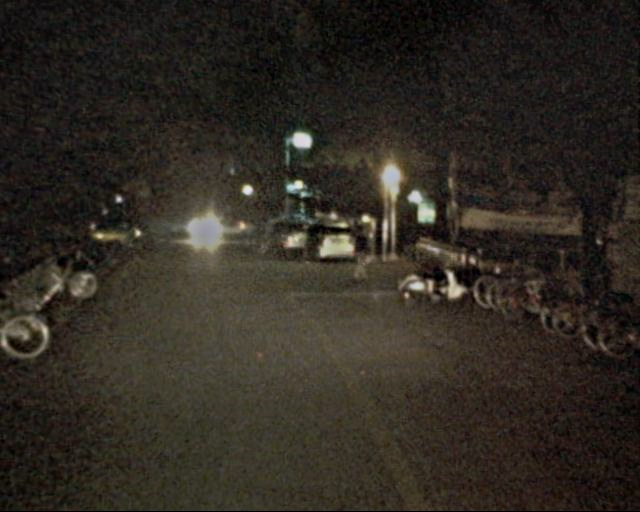person: (345, 225, 370, 287), (249, 221, 264, 258)
